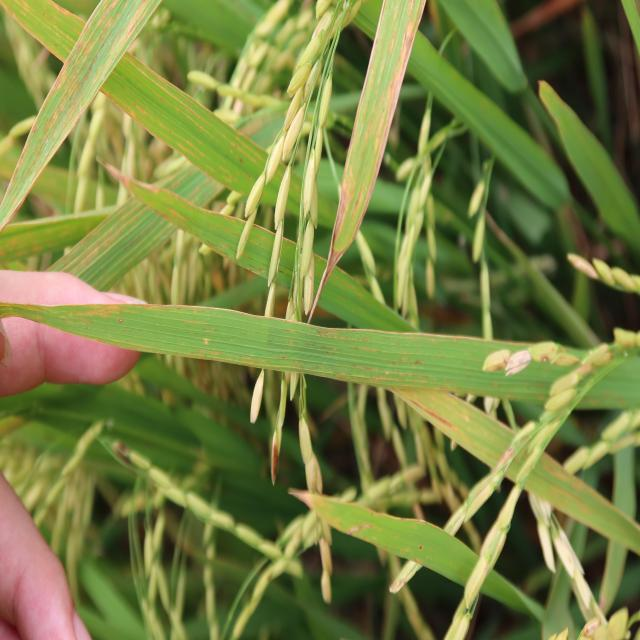Dom soc vi khuan: (0, 0, 160, 227), (57, 304, 127, 331), (316, 328, 366, 342)
